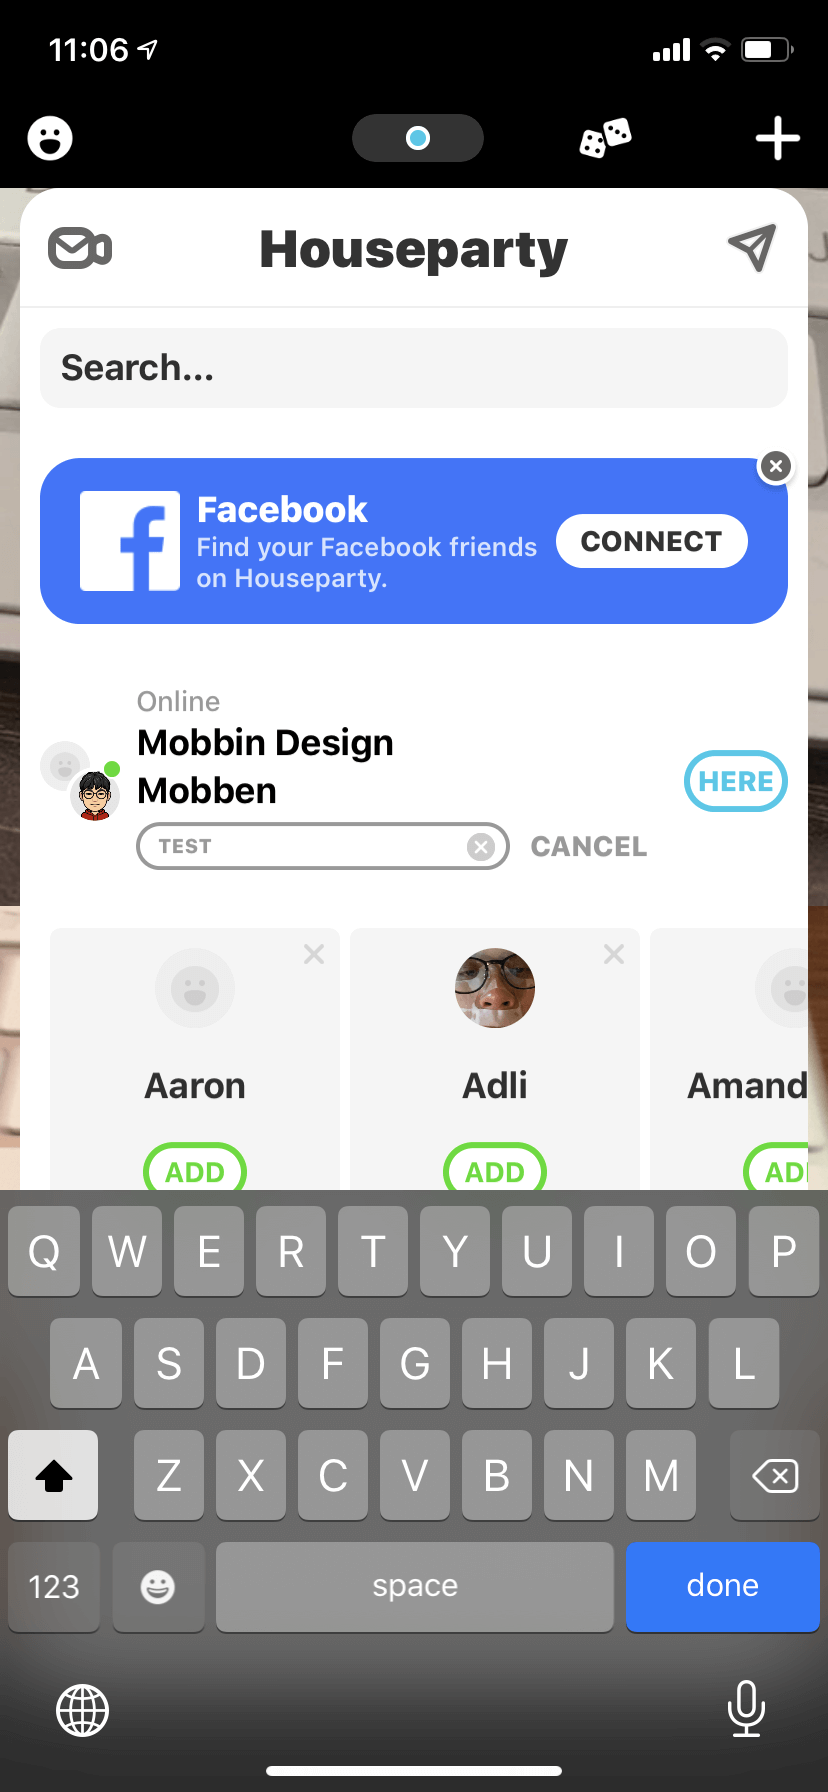Buttons: (546, 502, 759, 577), (331, 91, 507, 175), (663, 729, 795, 827), (527, 88, 672, 174), (520, 815, 658, 880), (34, 202, 127, 291), (5, 91, 96, 181), (425, 1131, 552, 1189), (698, 203, 788, 283), (130, 1136, 248, 1192), (738, 95, 815, 171), (734, 1133, 810, 1192), (586, 935, 632, 978), (297, 933, 334, 971)
Text Fields: (132, 809, 512, 881)
